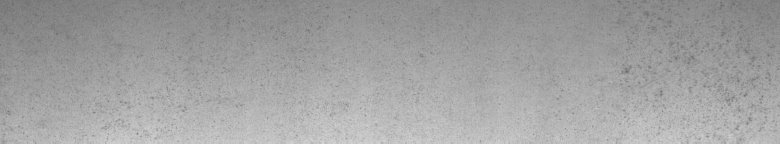ib: (619, 12, 764, 132)
